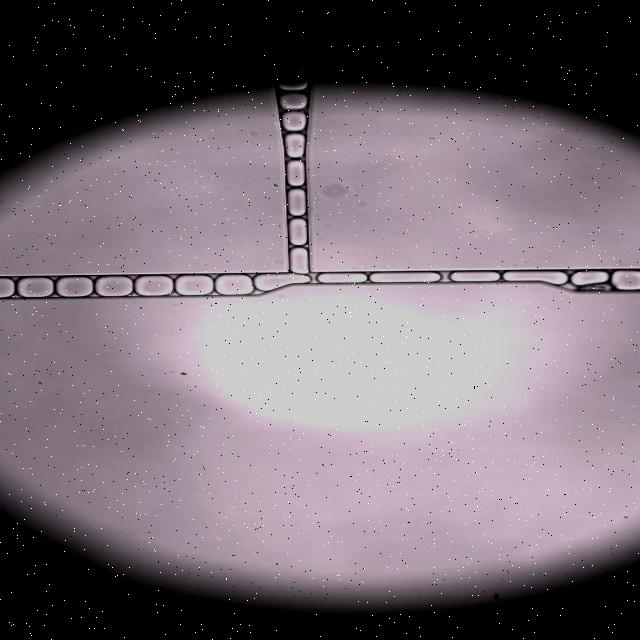L: (278, 92, 308, 111), (450, 271, 500, 282), (571, 271, 607, 286), (281, 112, 306, 132), (288, 189, 306, 216), (285, 134, 305, 158), (318, 273, 366, 283), (289, 219, 307, 245), (278, 76, 308, 91), (287, 161, 305, 186), (290, 248, 308, 273)
S: (254, 274, 309, 291), (504, 271, 567, 285), (370, 272, 441, 283), (17, 277, 54, 298), (135, 276, 173, 296), (56, 277, 93, 297), (95, 276, 132, 296), (176, 275, 213, 295), (215, 275, 253, 294), (612, 271, 640, 290), (0, 278, 14, 298)
